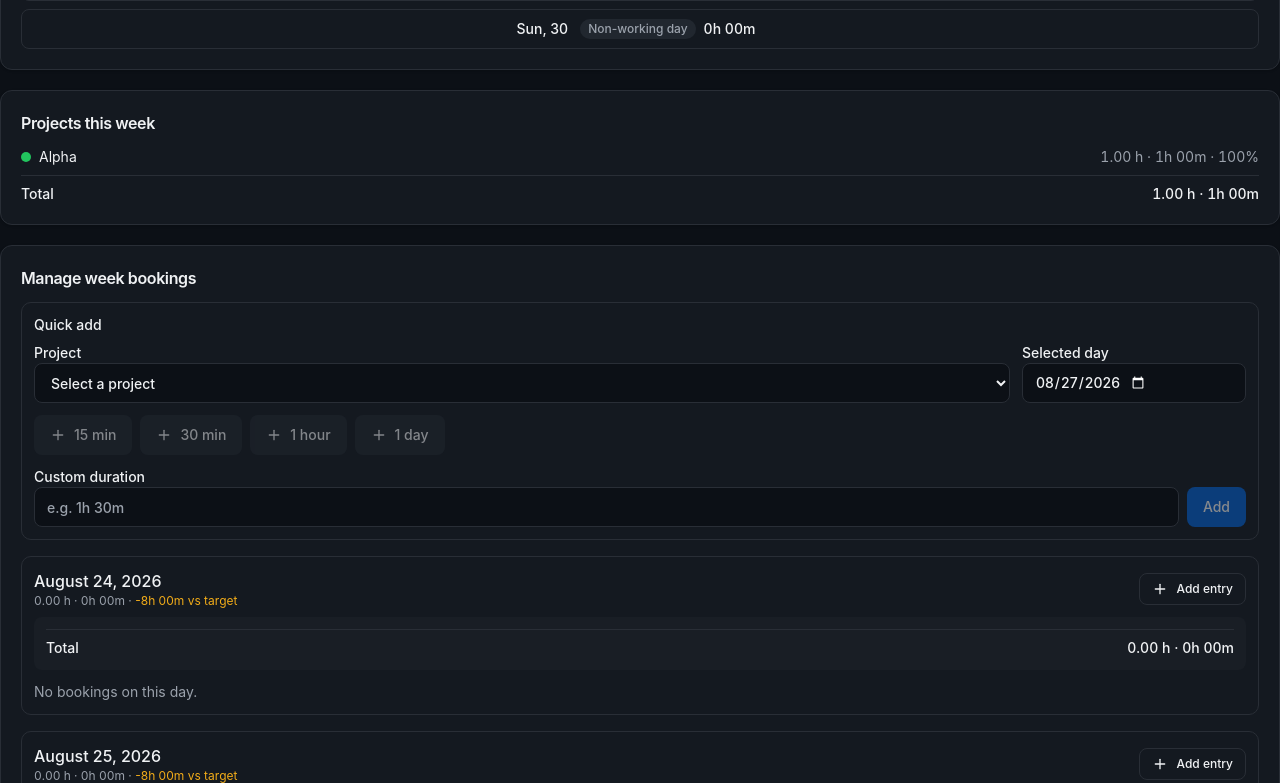
Test: WeekPage › adding and deleting an entry updates week and month totals
(page scrolled)
Select "Alpha" in the dropdown named "Quick add project": point(522, 383) [34,363,1010,403]
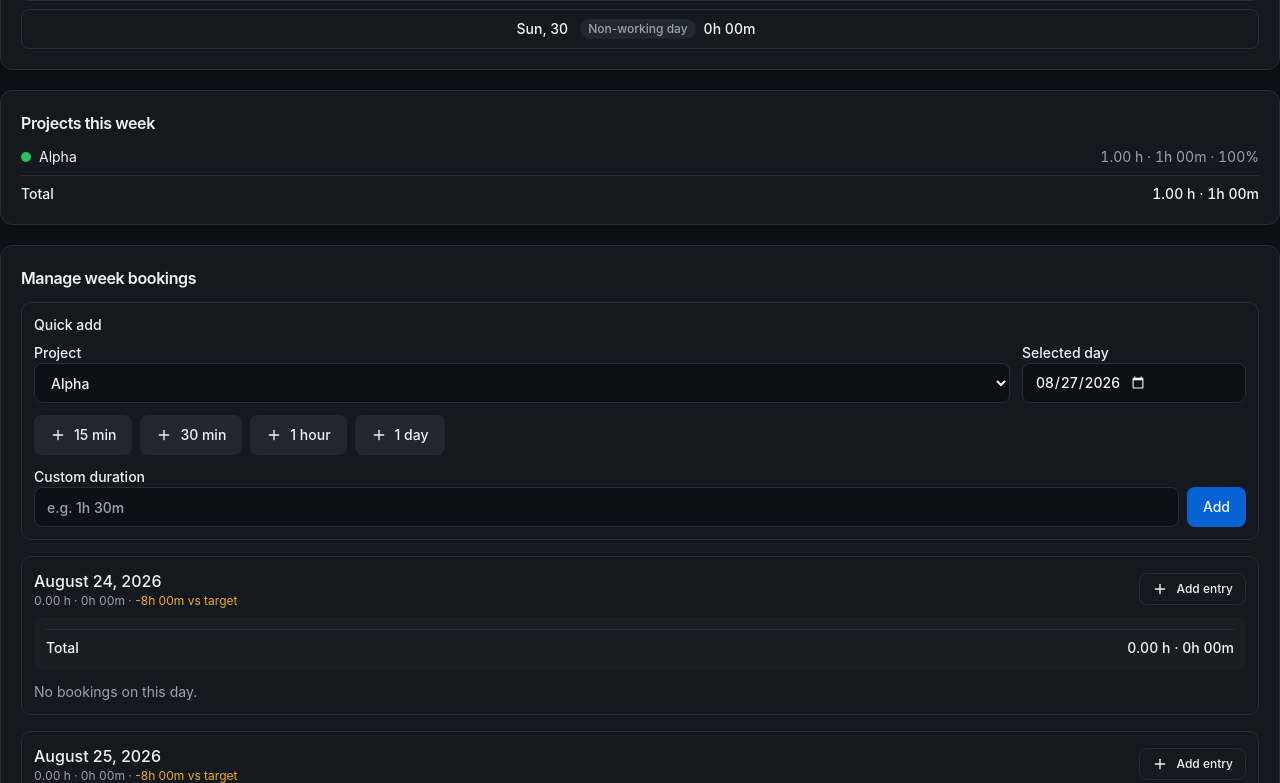
Click the button "15 min": point(83, 435) [34,415,132,455]
(page scrolled)
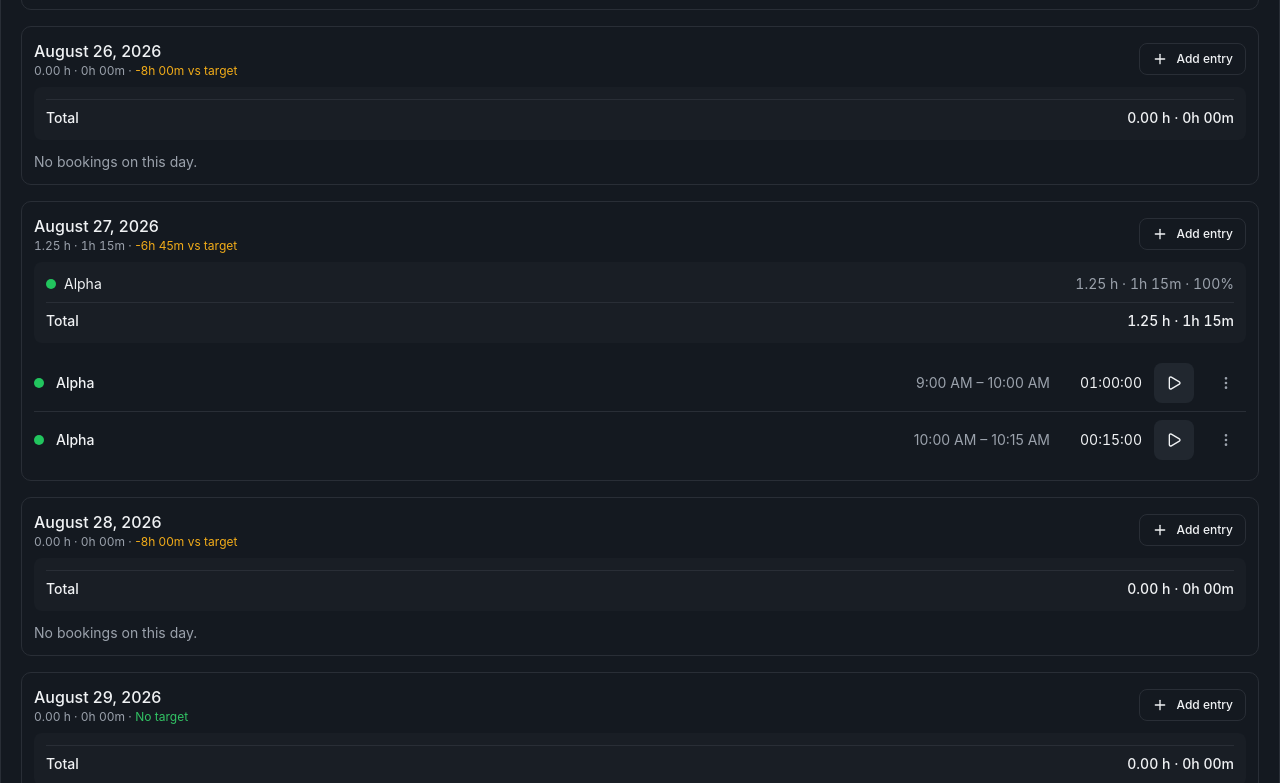
Click the button named "Actions for Alpha" in the row of "9:00 AM": point(1226, 383) [1206,363,1246,403]
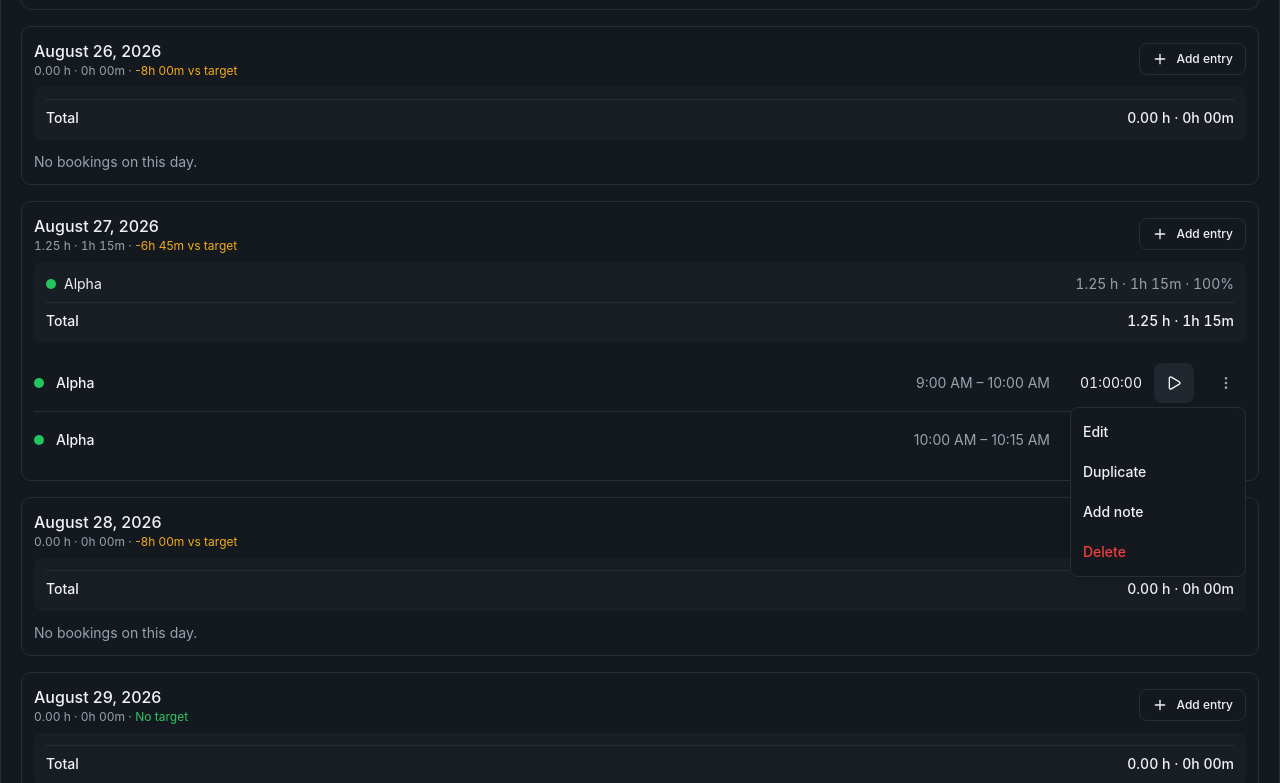
Click the menu item "Delete": point(1158, 552) [1071,532,1245,572]
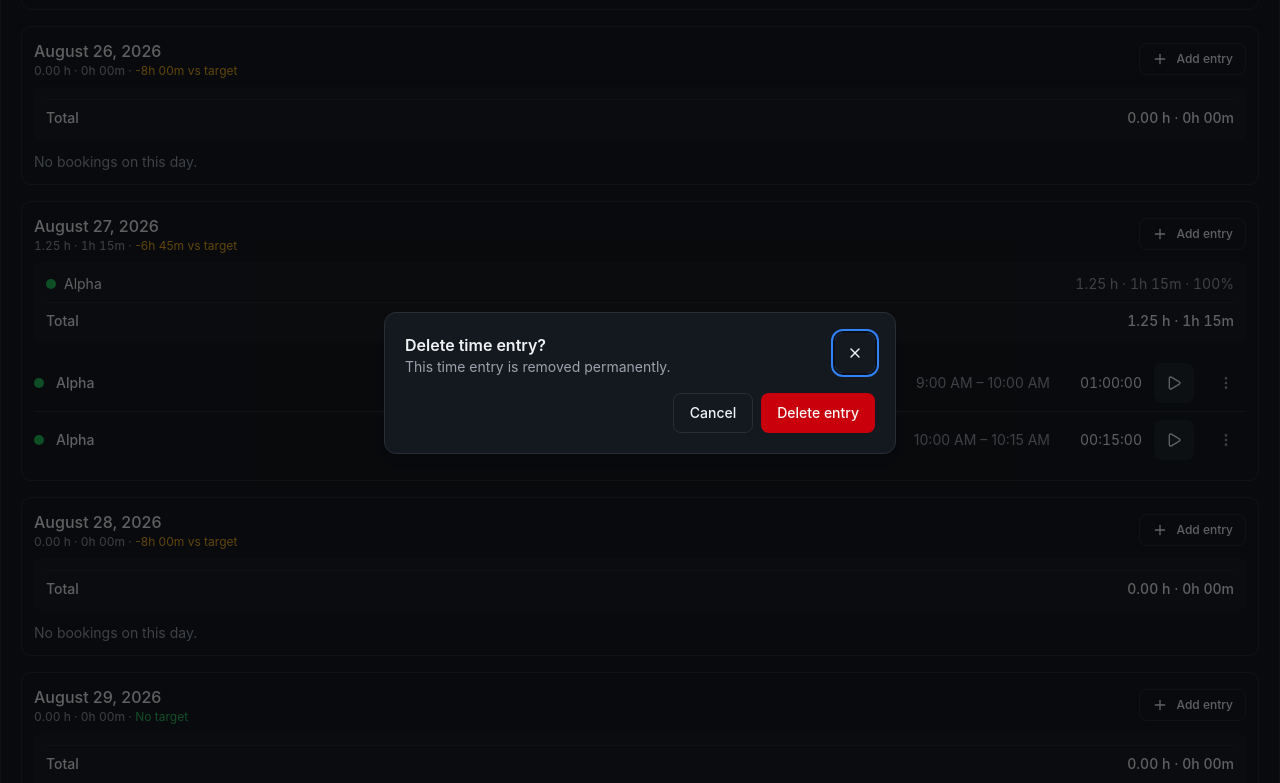
Click the button "Delete entry": point(818, 413) [761,393,875,433]
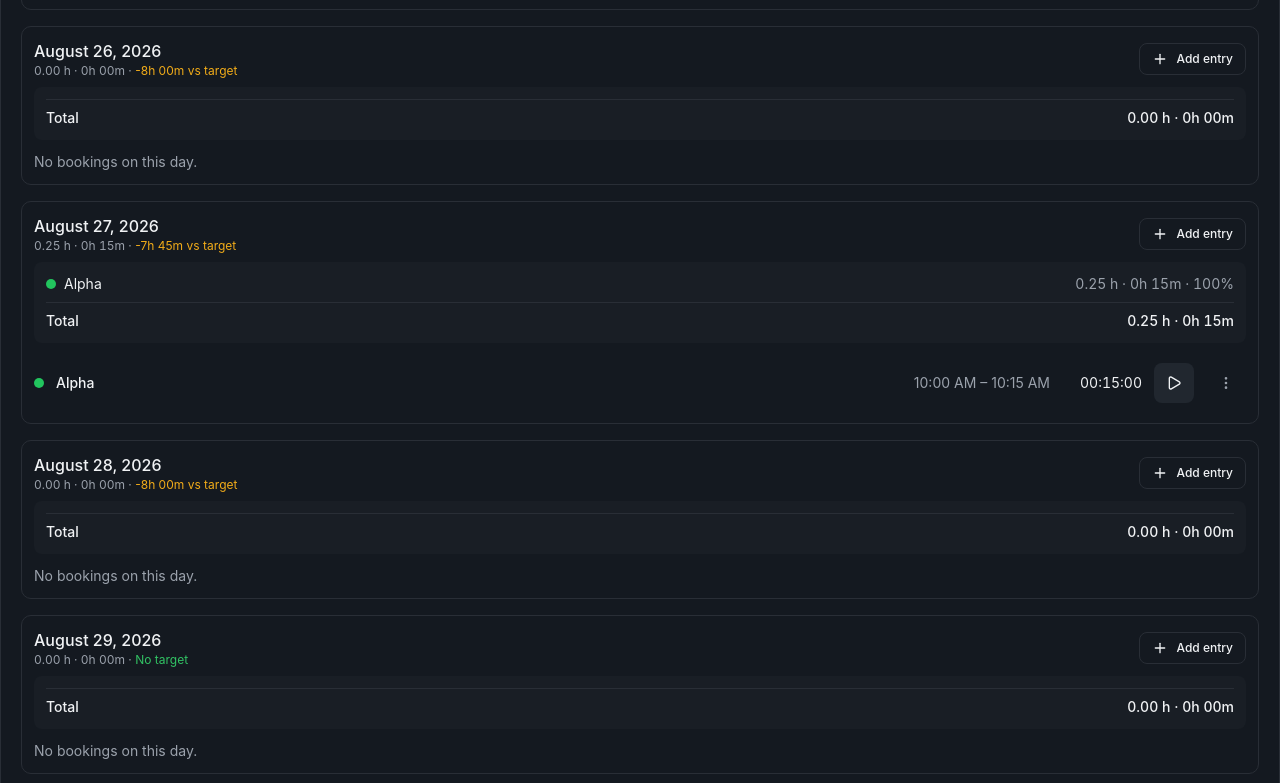
Result: the text "1h 15m" is gone
